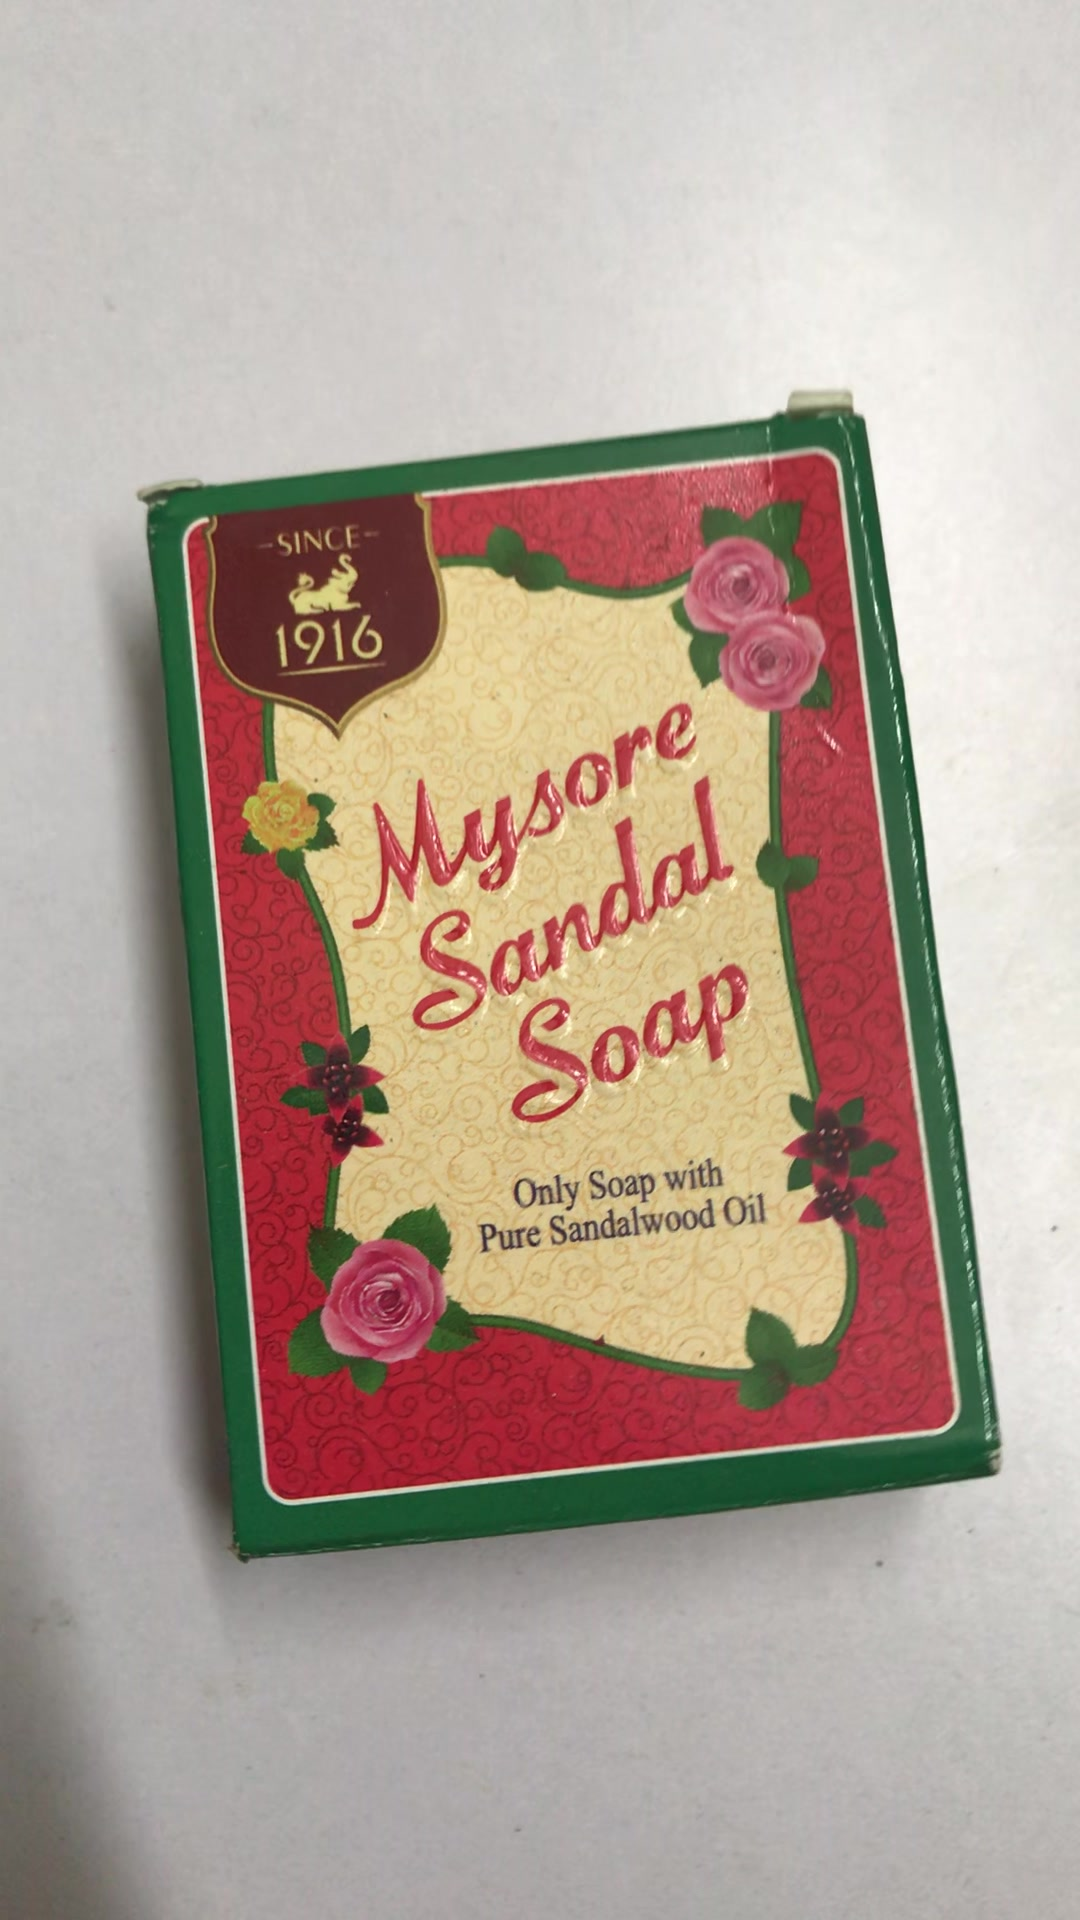mysore sandal soap: (153, 411, 1004, 1563)
